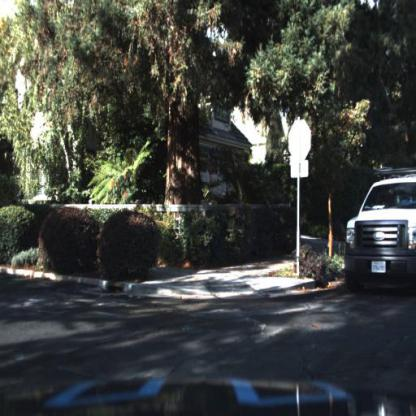truck: (344, 167, 416, 300)
